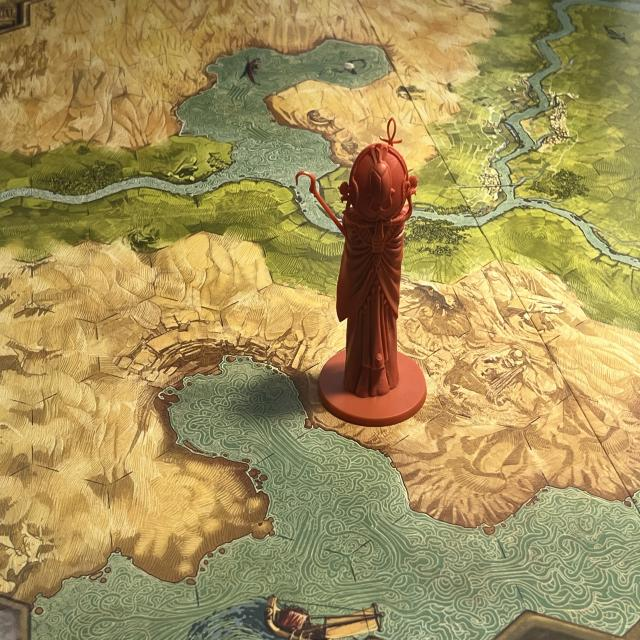amon: (292, 115, 446, 428)
